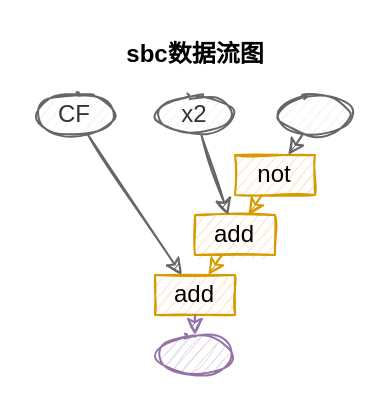
The diagram is 390 pixels wide and 410 high, and some of its shapes have lost their labels. The box of each missing label's shape, as (x1, y1, x2, y2) in pixels:
x1: (153, 333, 235, 375)
x3: (273, 93, 355, 135)
